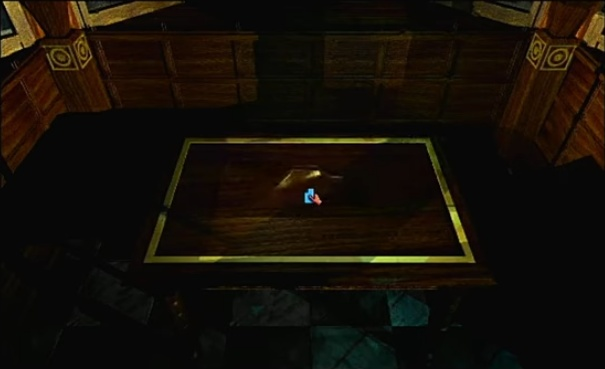Keep: (299, 184, 324, 207)
